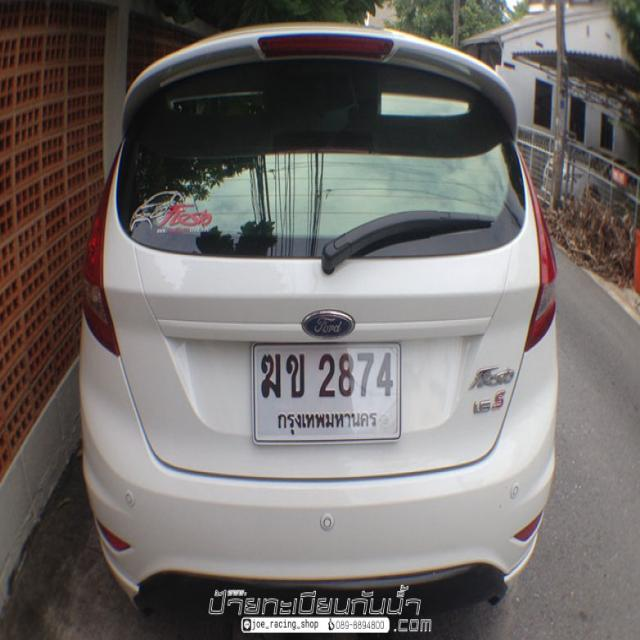license_plate: (250, 336, 405, 446)
